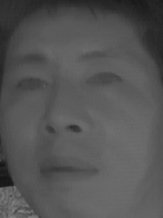eye: (15, 72, 52, 98), (85, 68, 126, 91)
mouth: (37, 153, 100, 187)
